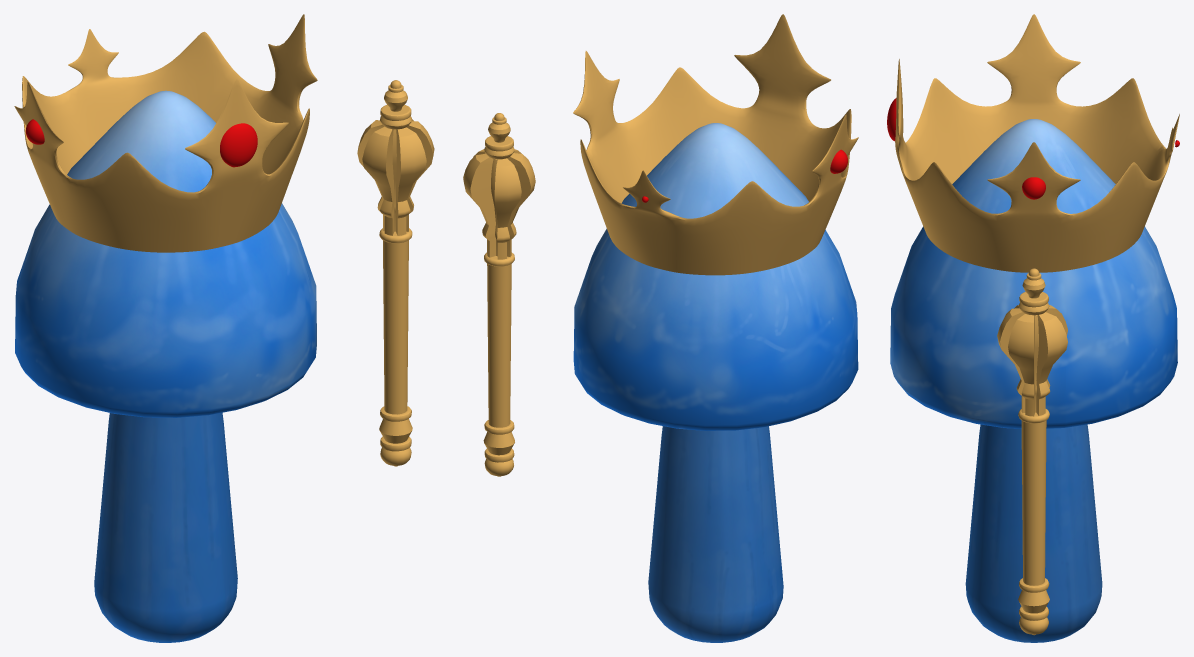
The model's file is Schroom_Prinz 1.fbx.
The picture shows the model from 3 angles, left to right: view 1: azimuth 30°, elevation 25°; view 2: azimuth 150°, elevation 25°; view 3: azimuth 270°, elevation 25°; orthographic projection. The views are drawn at different scales.
Parts seen in each view (by area): view 1: Prinz; view 2: Prinz; view 3: Prinz.
Part boxes in pixels (x1=…): Prinz: x1=14, y1=14, x2=434, y2=642; Prinz: x1=463, y1=14, x2=858, y2=642; Prinz: x1=887, y1=14, x2=1179, y2=642.
Size of the model in its own units: 198 by 283 by 132.
